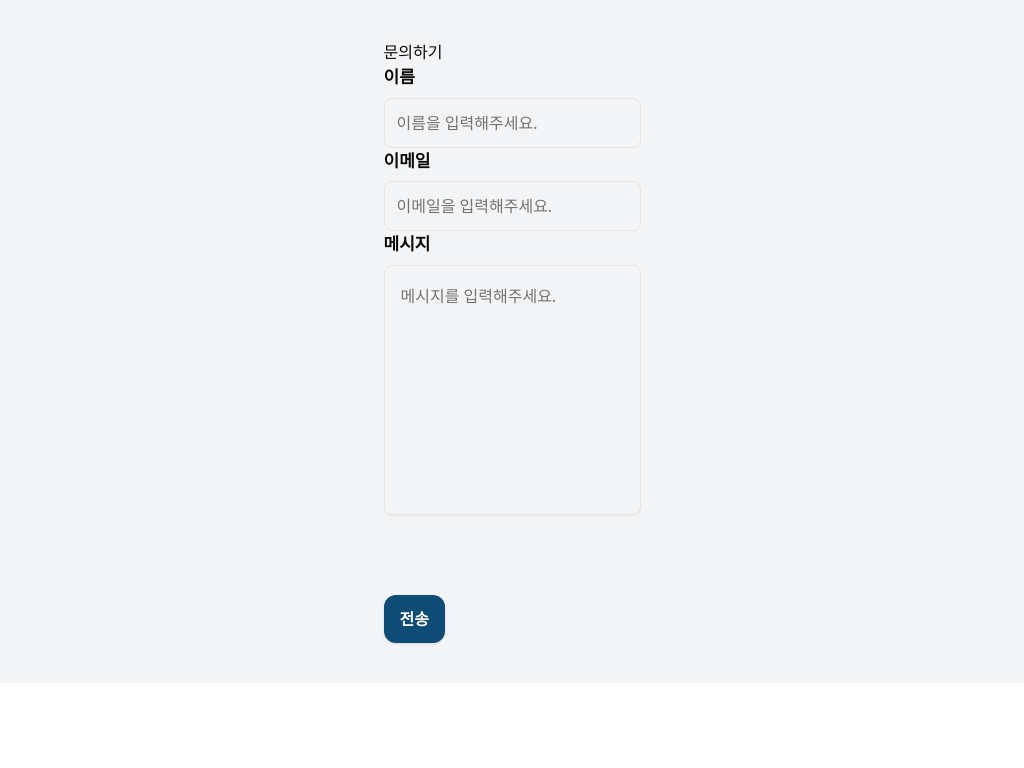
Scenario: src/views/contact/ui/ContactPage.tsx › 통합 테스트 › 입력값이 없다면 에러 메세지를 표시하고 제출하지 않는다.
The image size is (1024, 768).
Click the button "전송".
click(414, 618)  # box x1=384 y1=594 x2=445 y2=642
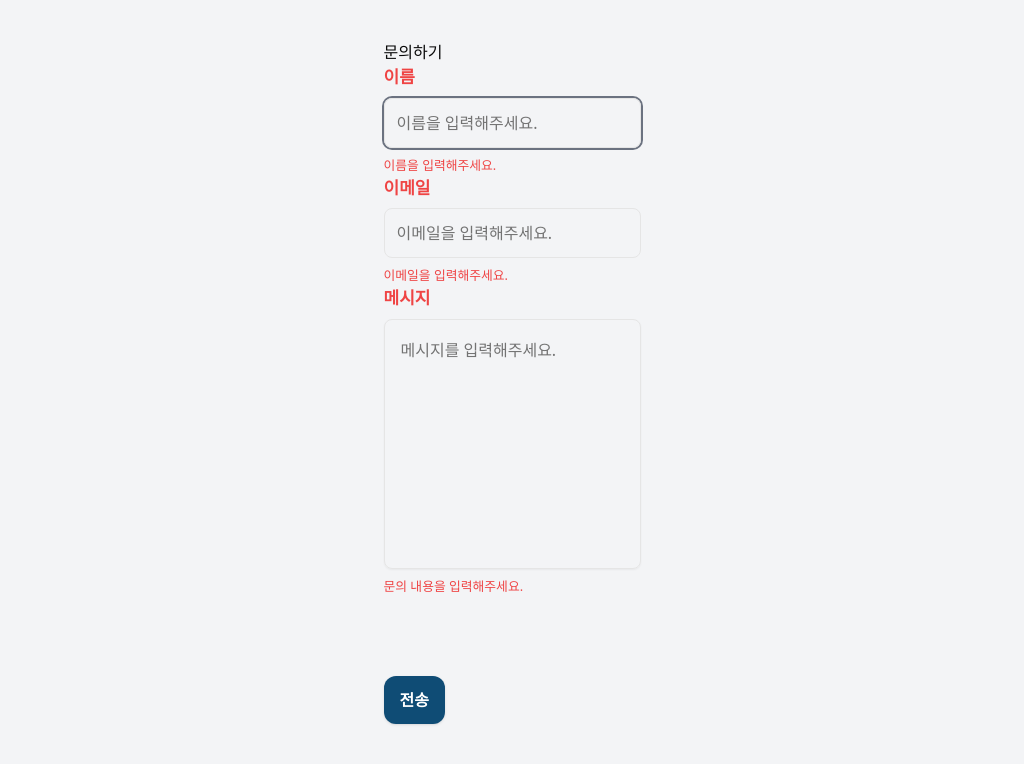
Expected: the text "이름을 입력해주세요." is shown, x1=384 y1=156 x2=496 y2=174
Expected: the text "이메일을 입력해주세요." is shown, x1=384 y1=266 x2=508 y2=284
Expected: the text "문의 내용을 입력해주세요." is shown, x1=384 y1=577 x2=523 y2=595
